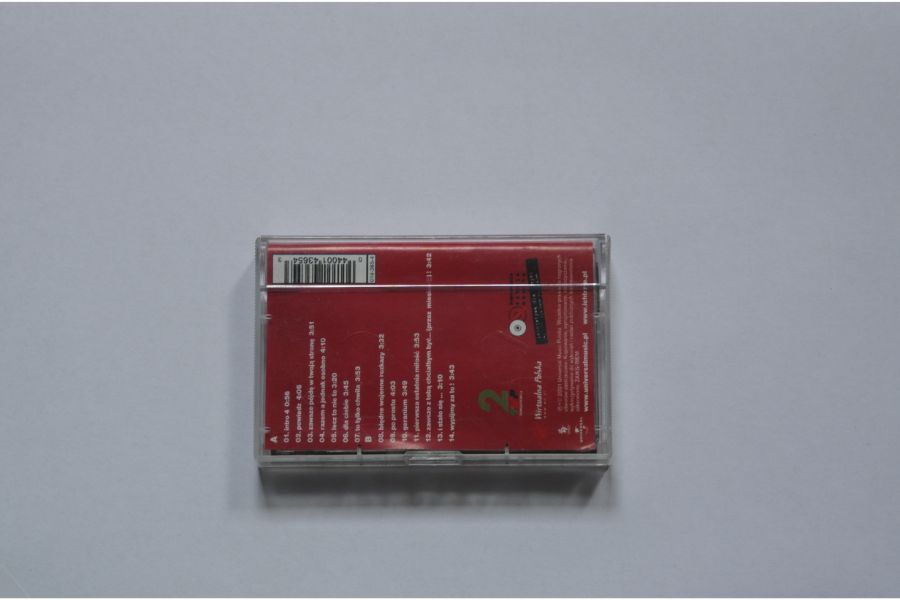album: (251, 231, 615, 473)
